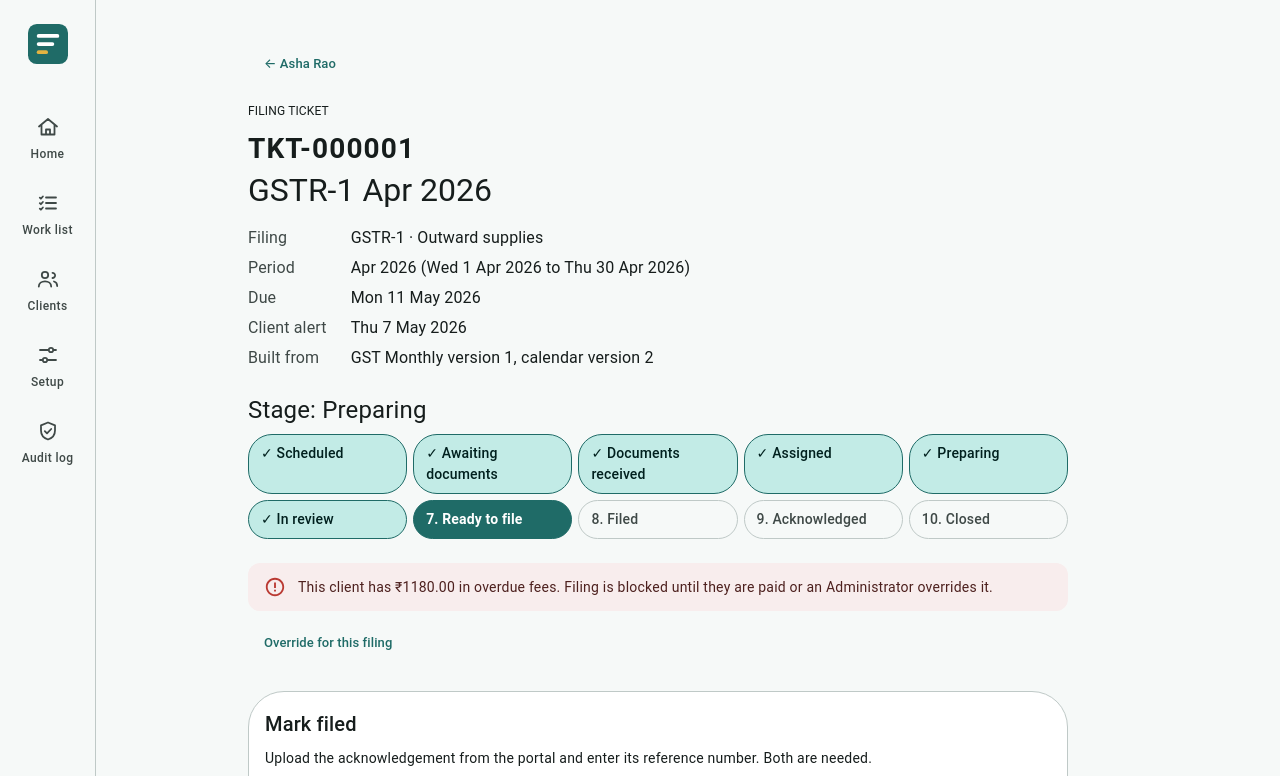
Scenario: Overdue fees on a filing › shows the block and lets an Administrator override this filing
Expected: the text "Filing is blocked" is shown, [298, 579, 993, 595]
Step 1. Click the button "Override for this filing" → x=328, y=643, box [240, 619, 416, 667]
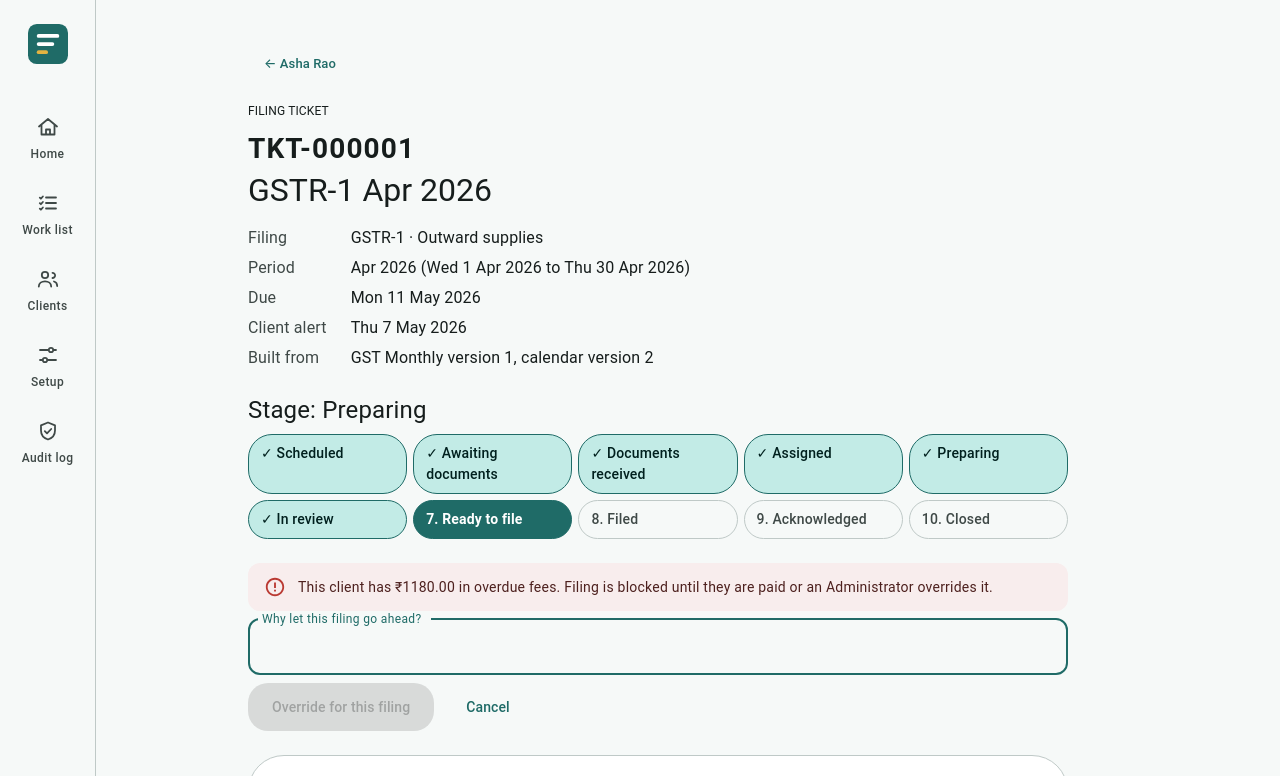
Step 2. Type "Deadline today" into the field labelled "Why let this filing go ahead?" → x=658, y=647, box [248, 619, 1068, 675]
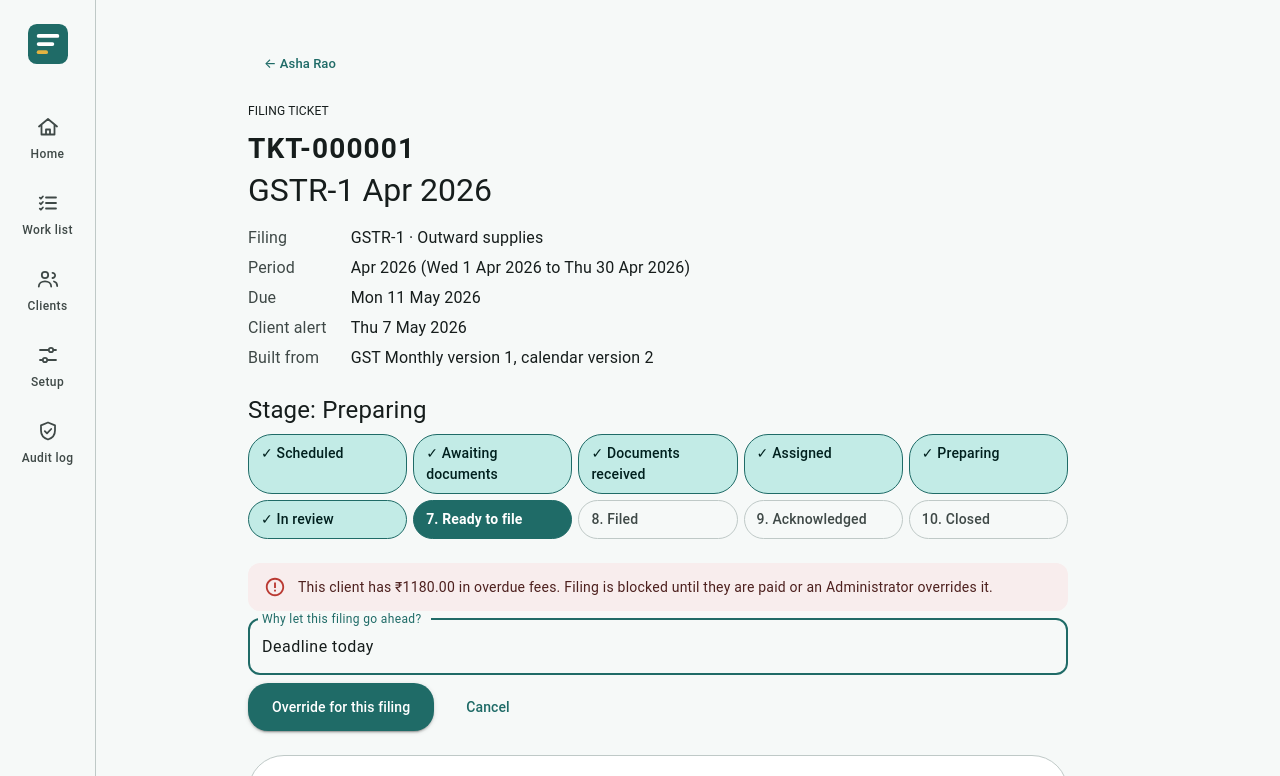
Step 3. Click the button "Override for this filing" → x=341, y=707, box [248, 683, 434, 731]
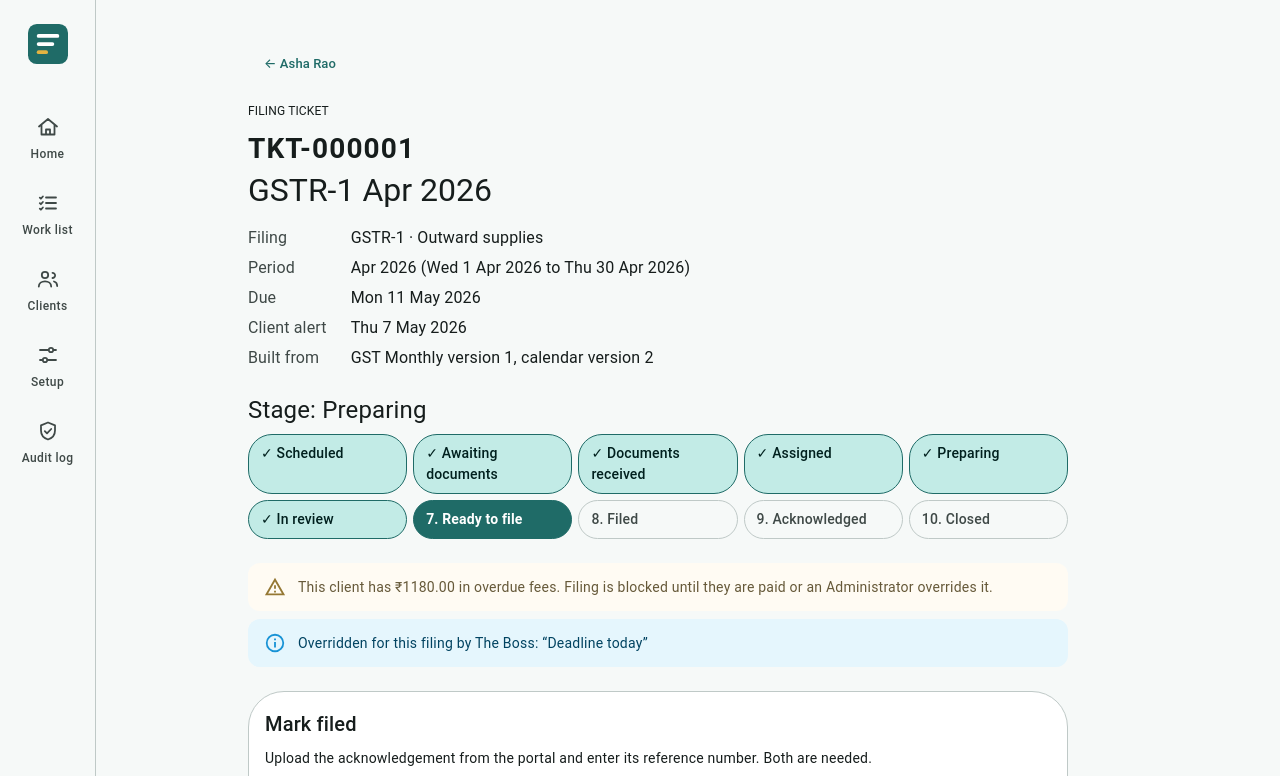
Result: the text "Overridden for this filing by The Boss: “Deadline today”" is shown at [298, 635, 648, 651]
